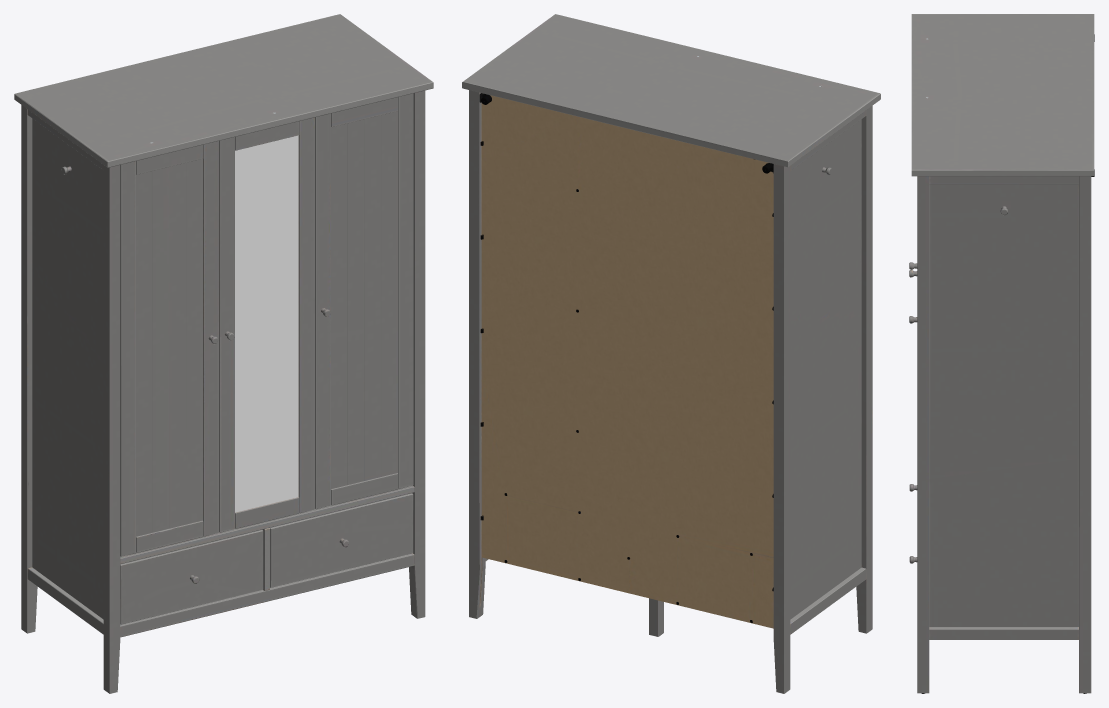
File: gullaberg_wardrobe_gray.glb
3 views of the same model, side by side, from view 1: azimuth 30°, elevation 25°; view 2: azimuth 150°, elevation 25°; view 3: azimuth 270°, elevation 25° (orthographic).
Visible parts, largest first — view 1: 50573954-GULLABERG001; view 2: 50573954-GULLABERG001; view 3: 50573954-GULLABERG001.
Part boxes in pixels (x1,y1,x2,y2): 50573954-GULLABERG001: (14,14,433,693); 50573954-GULLABERG001: (462,14,880,693); 50573954-GULLABERG001: (909,14,1094,693).
Bounding box in the file's own units: 1.28 × 2.01 × 0.6396.
1 material, 1 textured.
